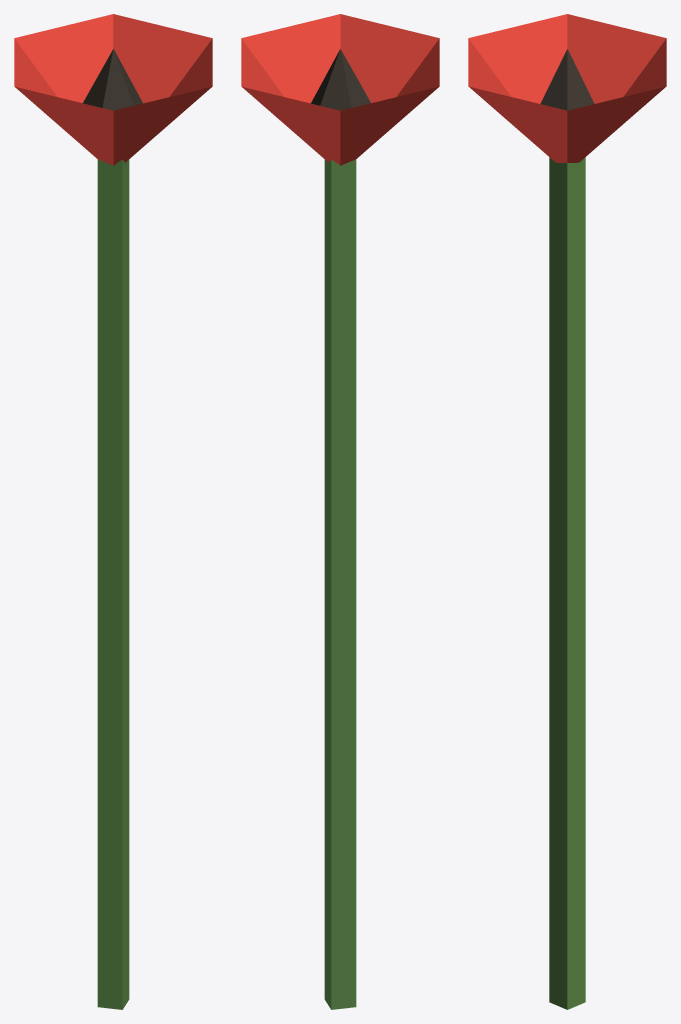
The model's file is poppy.glb.
3 views of the same model, side by side, from view 1: azimuth 30°, elevation 25°; view 2: azimuth 150°, elevation 25°; view 3: azimuth 270°, elevation 25° (orthographic).
Parts seen in each view (by area): view 1: Poppy; view 2: Poppy; view 3: Poppy.
Boxes of the visible parts, x1,y1,x2,y2 form: Poppy: (14,14,212,1009); Poppy: (241,14,439,1009); Poppy: (468,14,666,1009).
Size of the model in its own units: 0.15 by 0.69 by 0.1299.
